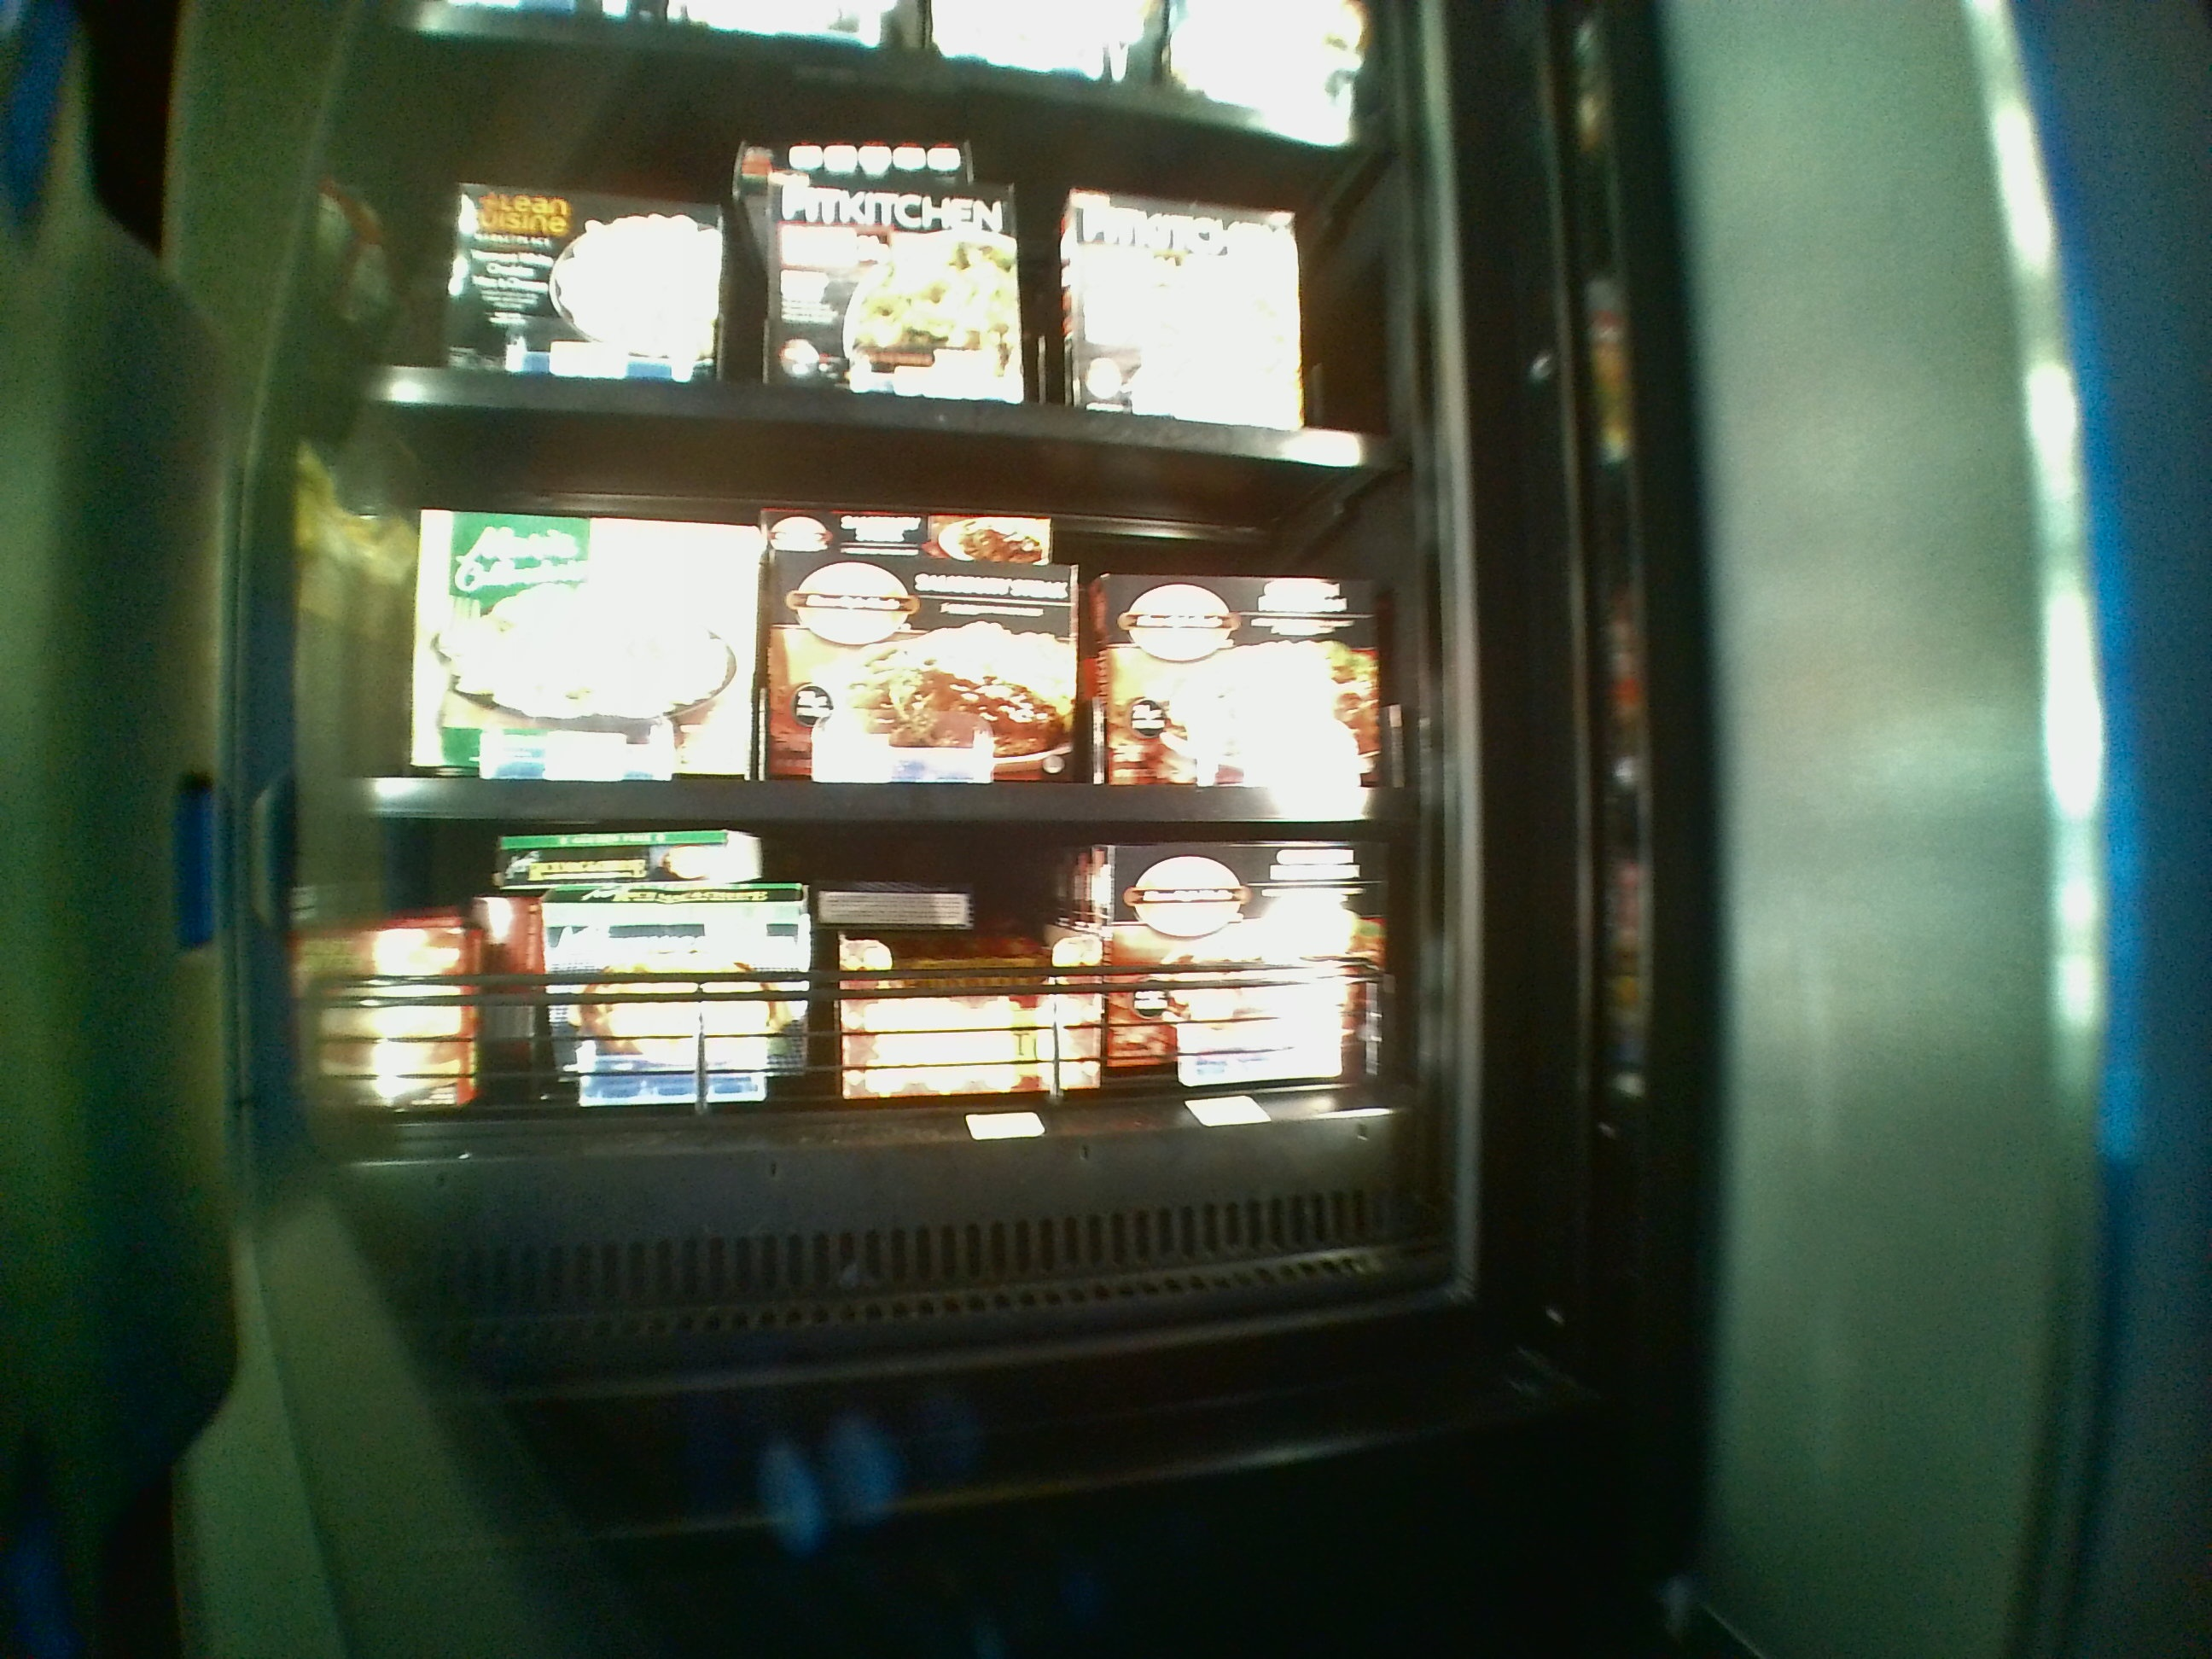shelf: (291, 403, 1404, 824), (289, 829, 1418, 1154)
